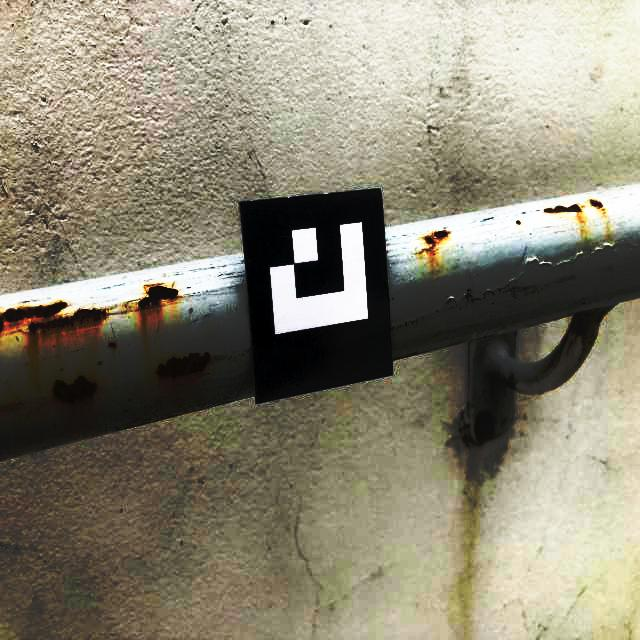Corrosion: (0, 301, 68, 334), (28, 307, 106, 335), (157, 352, 211, 379), (52, 375, 97, 405), (138, 282, 179, 310), (473, 412, 494, 440), (543, 204, 583, 213), (433, 230, 448, 240), (589, 199, 604, 209), (424, 235, 435, 246), (108, 340, 116, 349), (579, 329, 585, 335), (516, 220, 521, 225)
